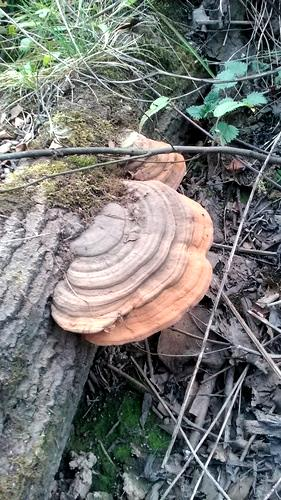Ganoderma - Fruit Body: (60, 179, 215, 351), (121, 129, 189, 177)
